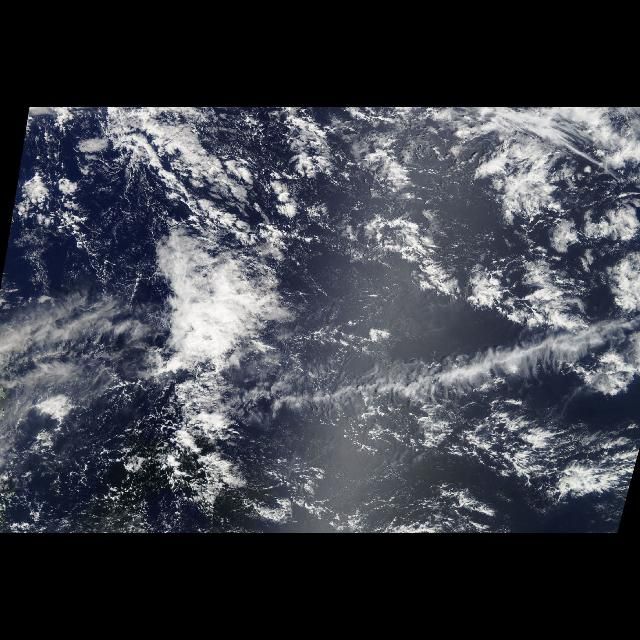Fish: (0, 143, 296, 427), (225, 318, 640, 504)
Gravel: (222, 114, 536, 292), (10, 423, 176, 532)
Sugar: (57, 162, 145, 290)
